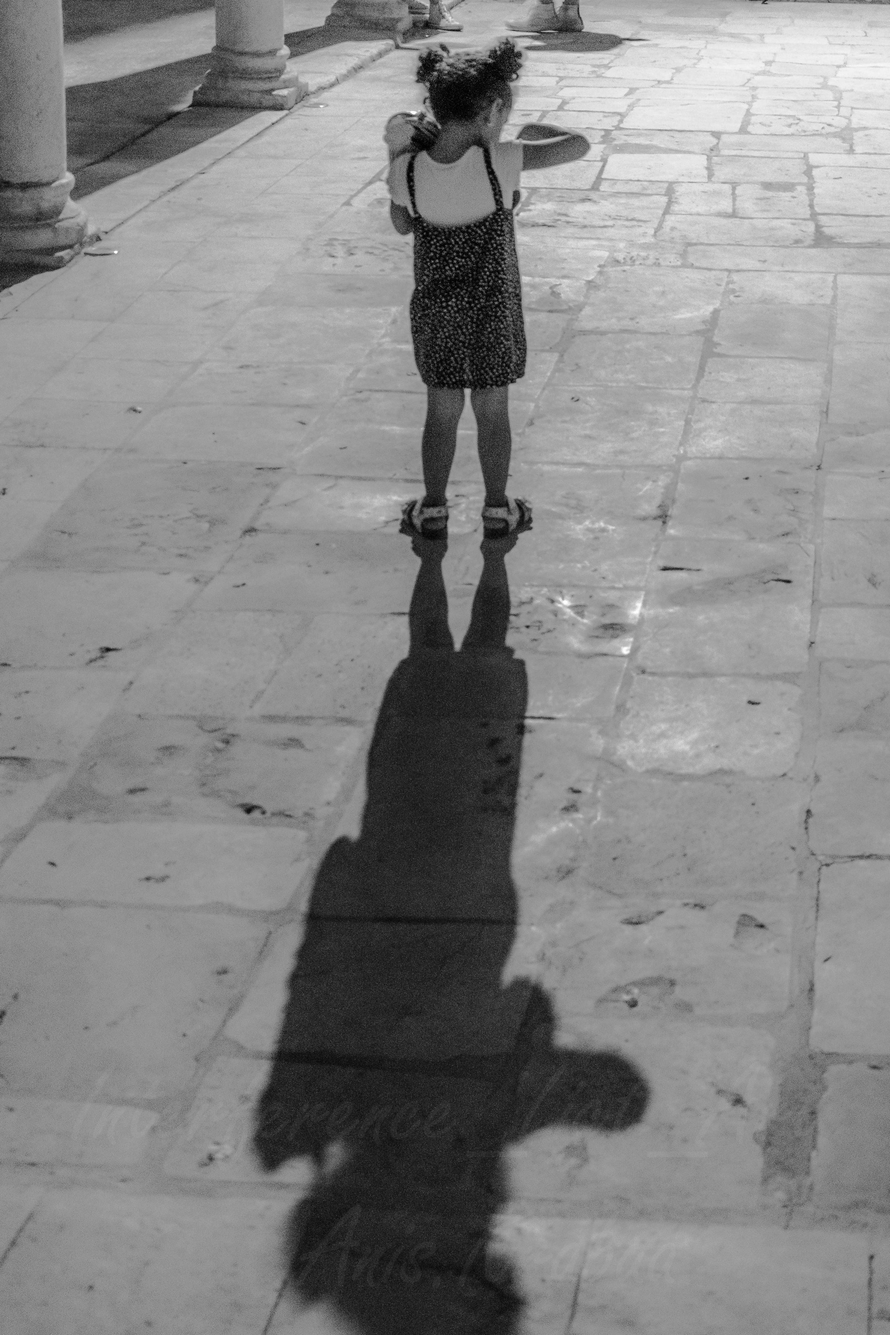Human: (314, 0, 602, 548)
